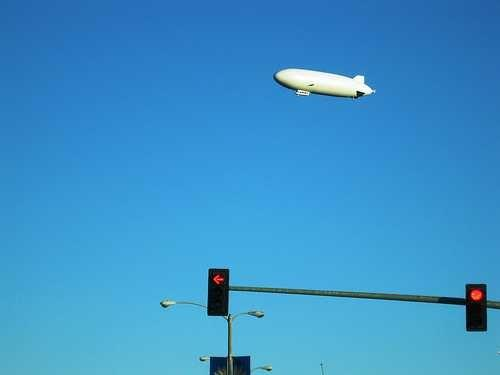red: (463, 281, 490, 334), (205, 264, 231, 319), (464, 284, 488, 303), (209, 268, 230, 287)
